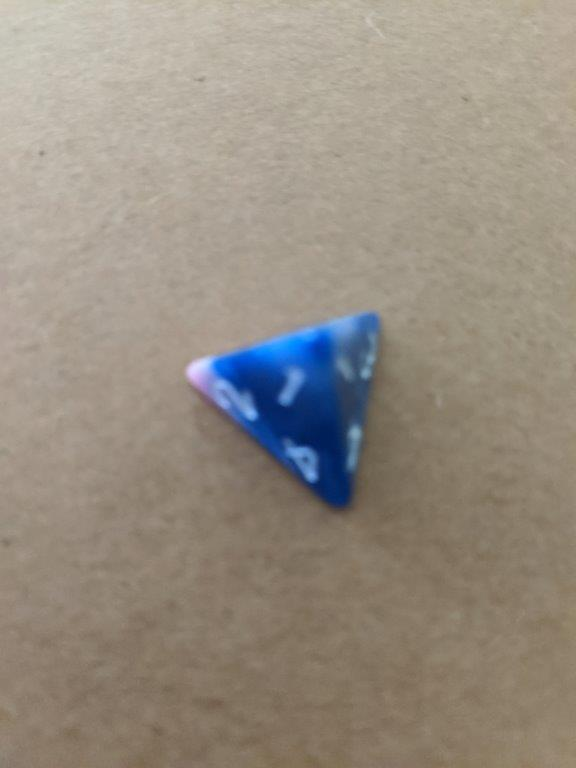d4-1: (185, 309, 388, 513)
